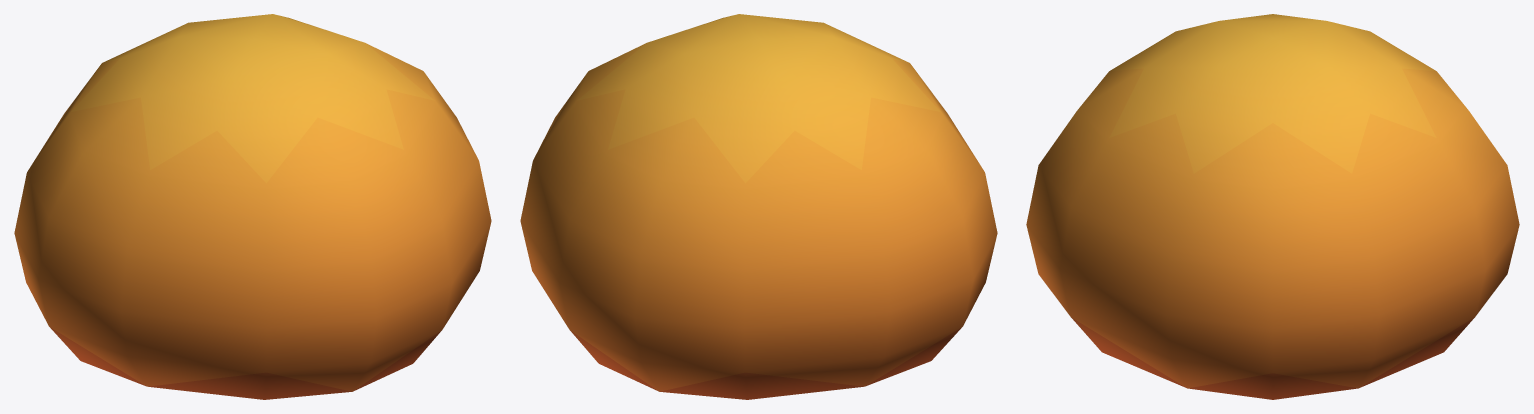
File: bush_small.gltf
3 renders of one model, left to right at view 1: azimuth 30°, elevation 25°; view 2: azimuth 150°, elevation 25°; view 3: azimuth 270°, elevation 25°, orthographic.
Parts seen in each view (by area): view 1: Bush_1_C_Color1; view 2: Bush_1_C_Color1; view 3: Bush_1_C_Color1.
Part boxes in pixels (<box>): Bush_1_C_Color1: <box>14,14,491,399</box>; Bush_1_C_Color1: <box>520,14,997,399</box>; Bush_1_C_Color1: <box>1026,14,1519,399</box>.
Bounding box in the file's own units: 1.2 × 0.8074 × 1.2.
1 material, 1 textured.
